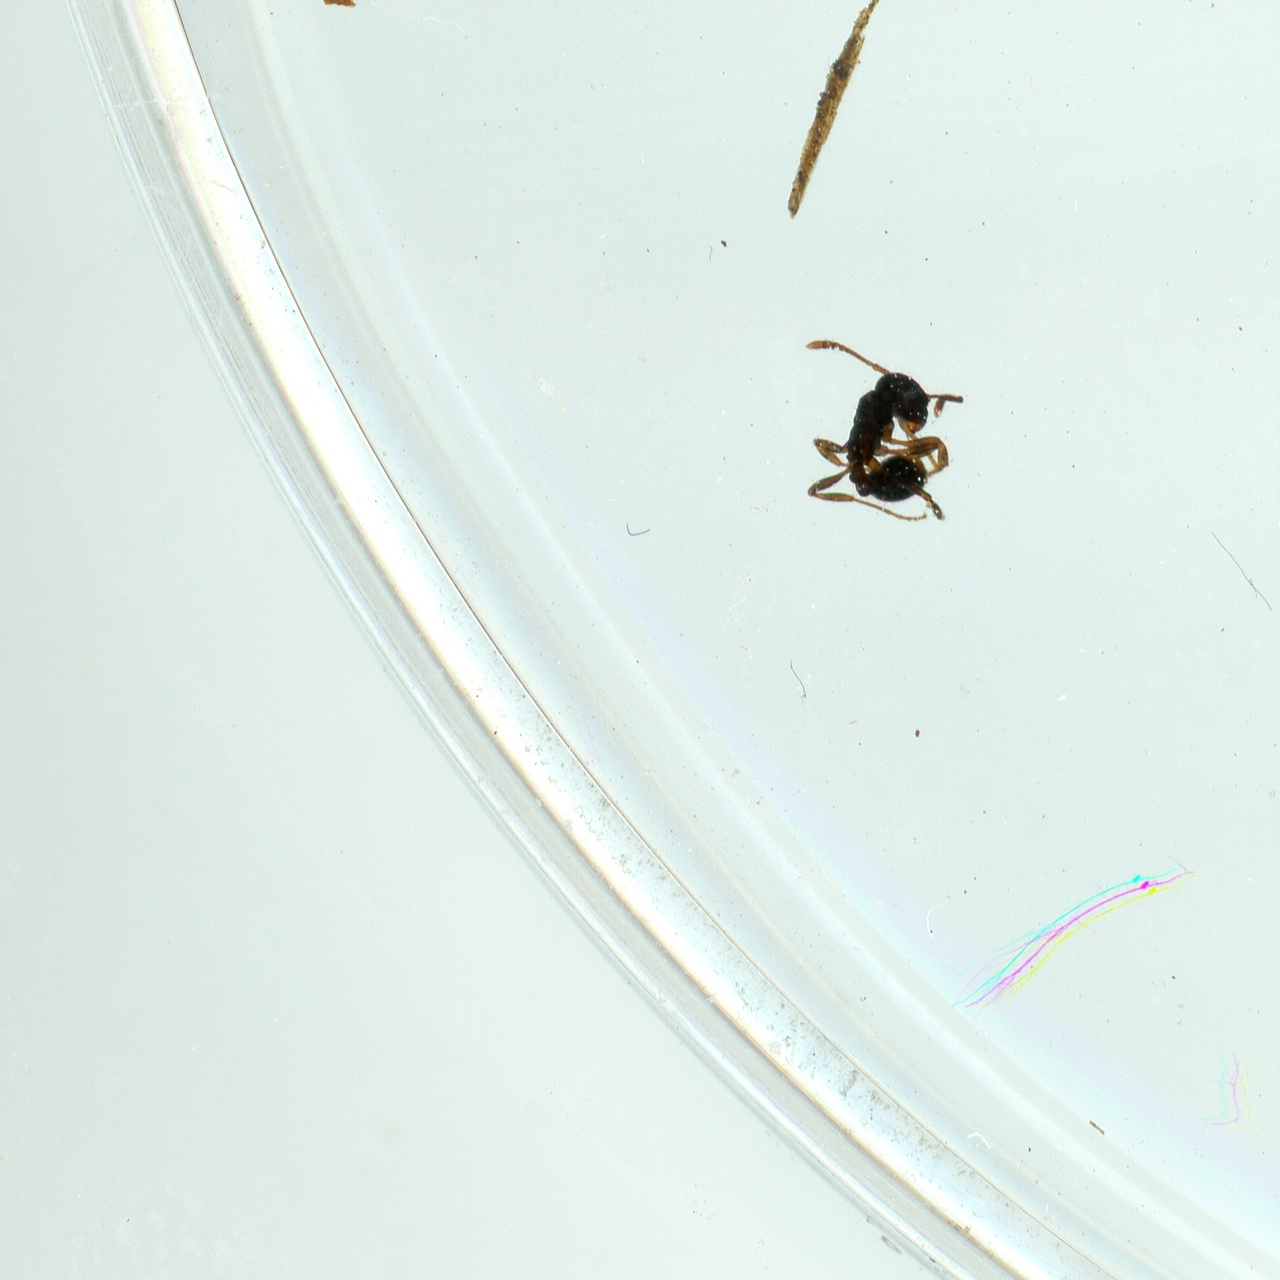arthropod: (797, 338, 973, 527)
